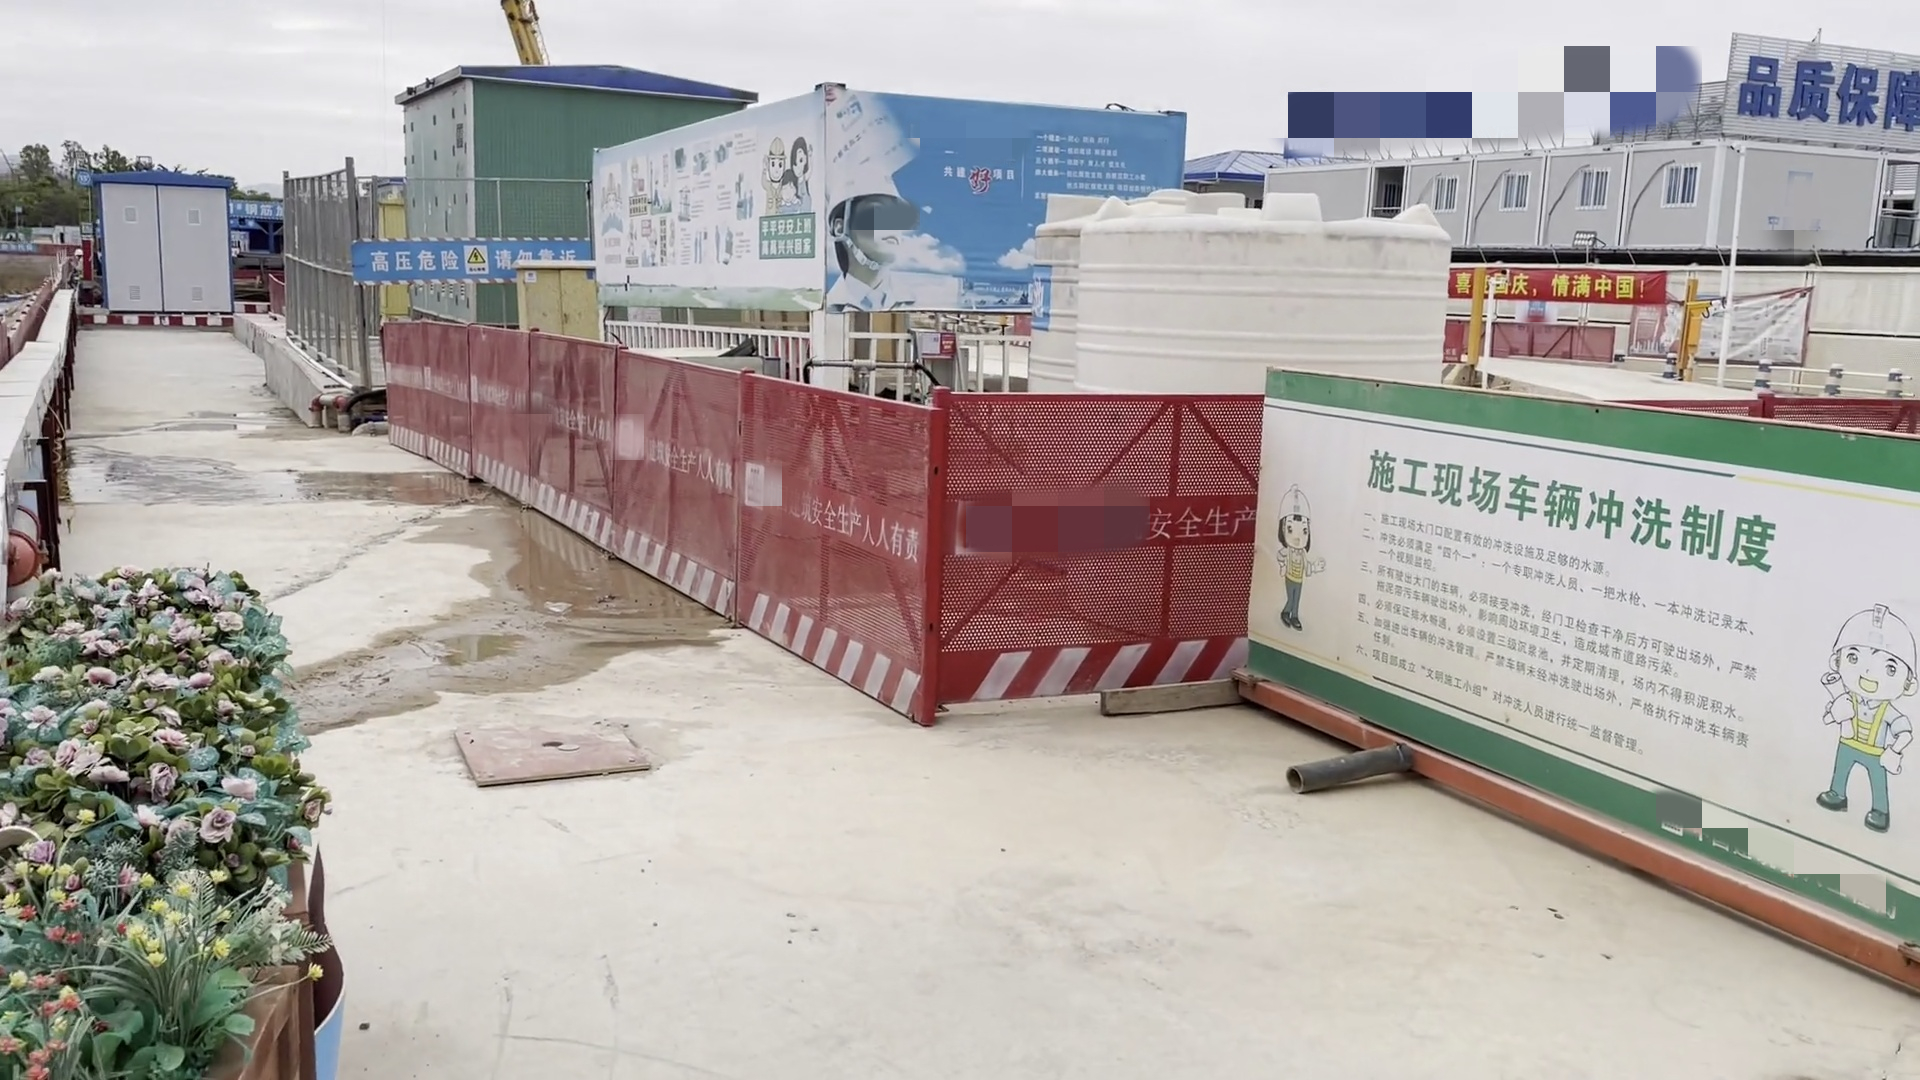ebox: (517, 258, 601, 338)
fence: (382, 323, 928, 735), (927, 389, 1246, 702), (1445, 316, 1614, 367)
slogan: (1724, 37, 1920, 140), (353, 235, 583, 278), (1443, 266, 1664, 307), (756, 215, 816, 258)
